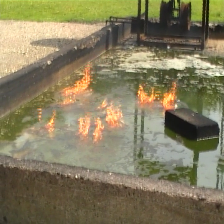fire_h: (61, 60, 91, 105), (105, 102, 124, 127), (137, 84, 158, 106), (162, 83, 176, 109)
fire_l: (92, 117, 105, 143), (79, 112, 91, 138), (45, 110, 56, 138), (98, 98, 107, 108), (37, 107, 41, 122)
